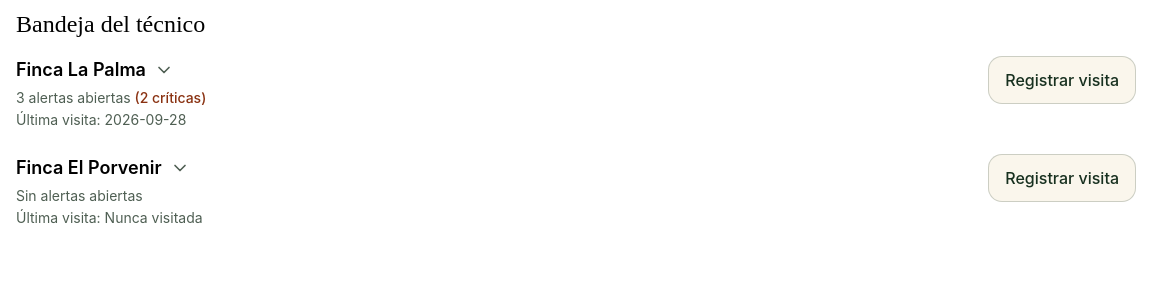
it: TrayScreen › keeps a farm's cached plots when a refetch fails, and blocks with the error only when nothing is cached
Expected: the heading "Finca La Palma" is shown, [16,56,146,84]
Click the button "Finca La Palma" at coordinates (81, 70), box [16,56,976,130]
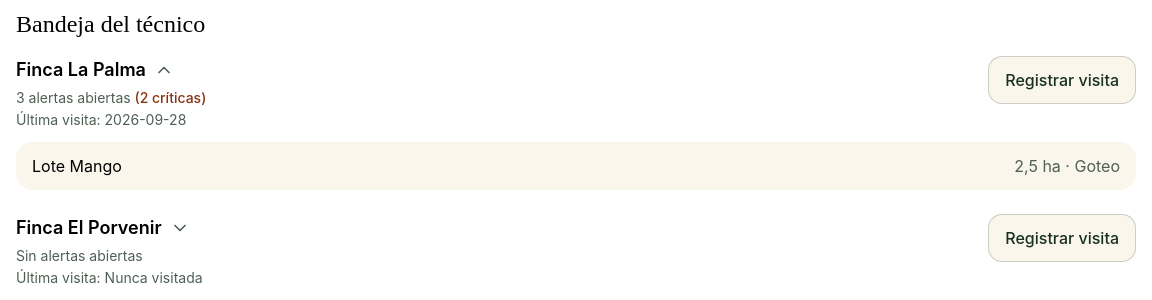
Now the text "Lote Mango" is shown, box [32,154,122,178]
Now the button "Lote Mango 2,5 ha · Goteo" is shown, box [16,142,1136,190]
